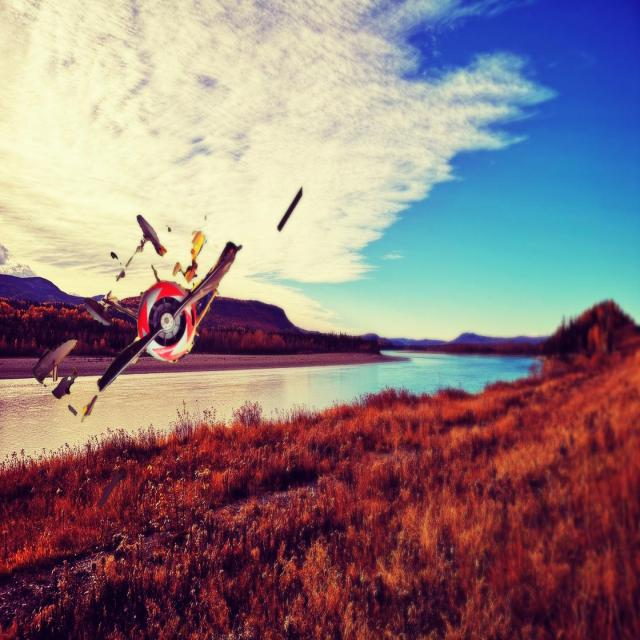airplane: (36, 205, 243, 423)
